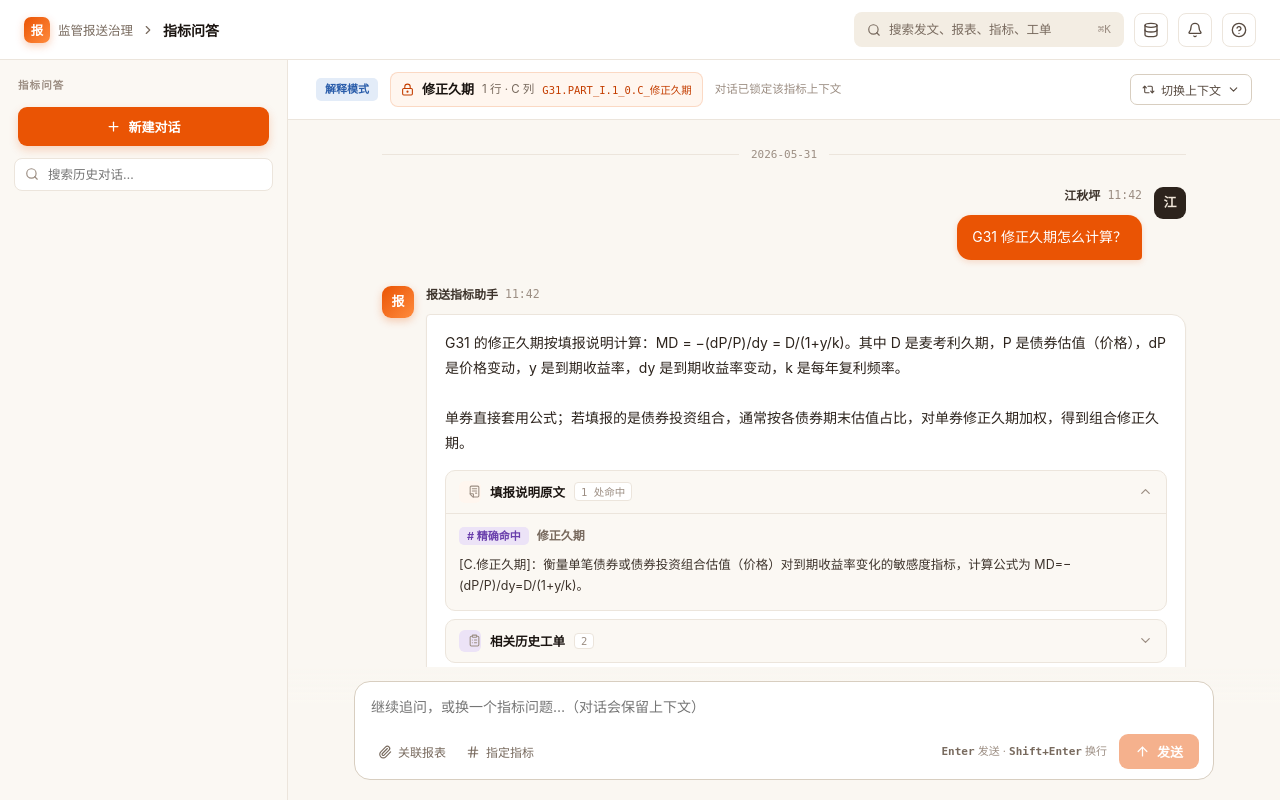
Scenario: IndicatorQAView › appends a streamed assistant response after sending a follow-up
Click the button with test id "qa-new-chat". click: (144, 126)
box: [18, 107, 269, 146]
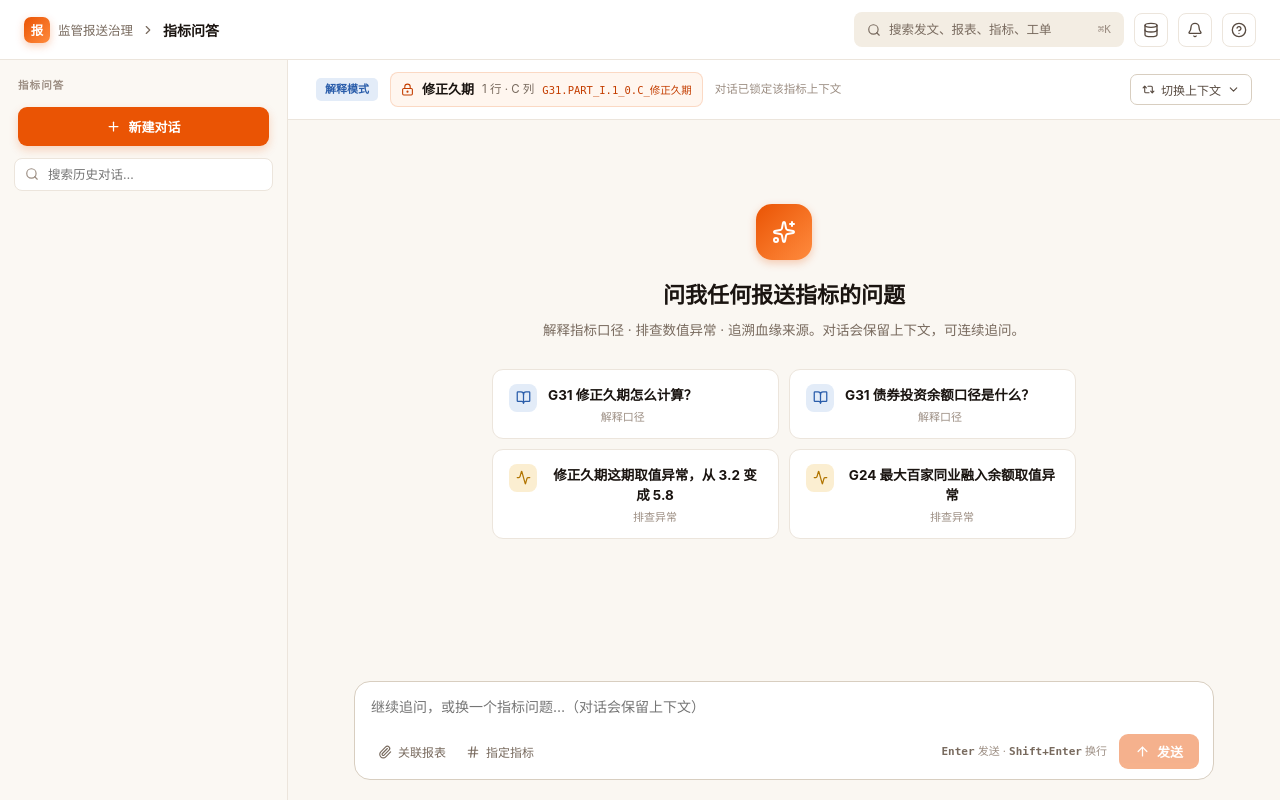
Type "解释一下修正久期" into the text box with test id "qa-composer-input". click: (784, 707)
box: [369, 694, 1199, 720]
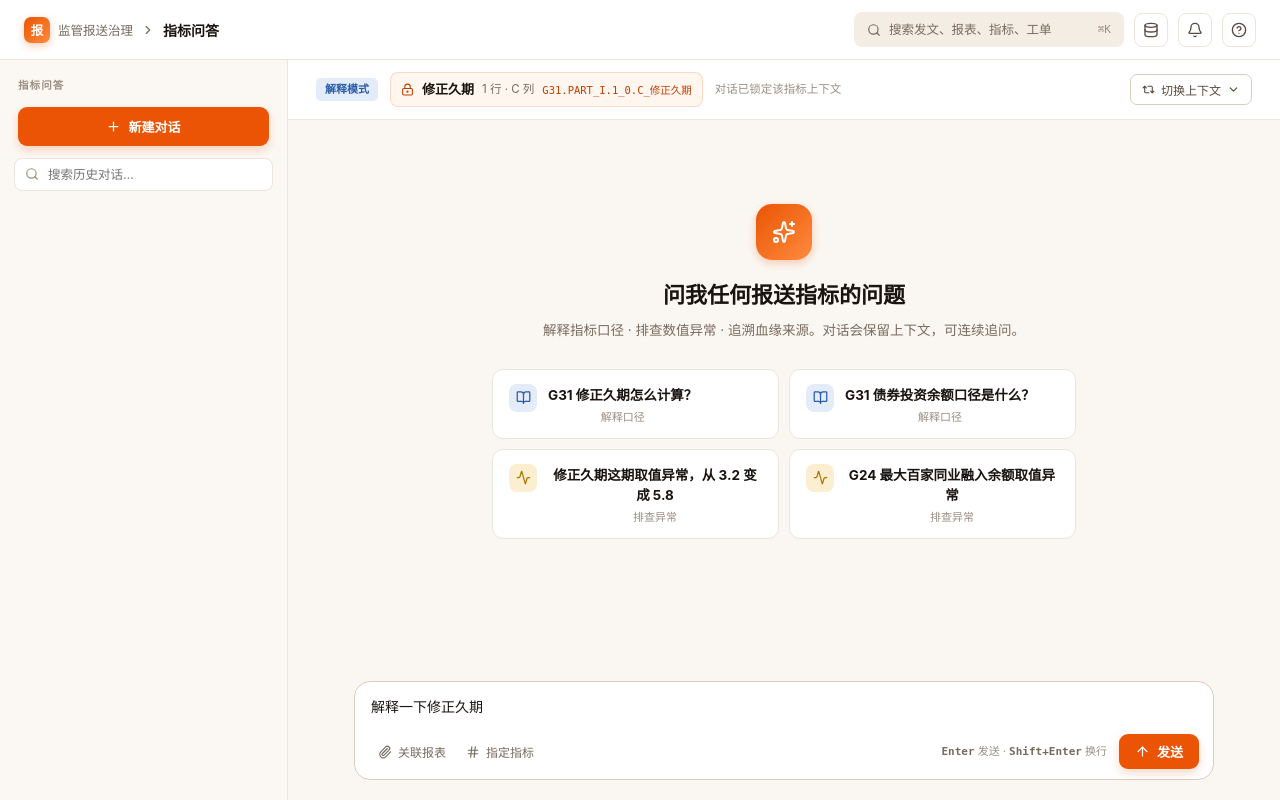
Click the button with test id "qa-send". click: (1159, 752)
box: [1119, 734, 1199, 769]
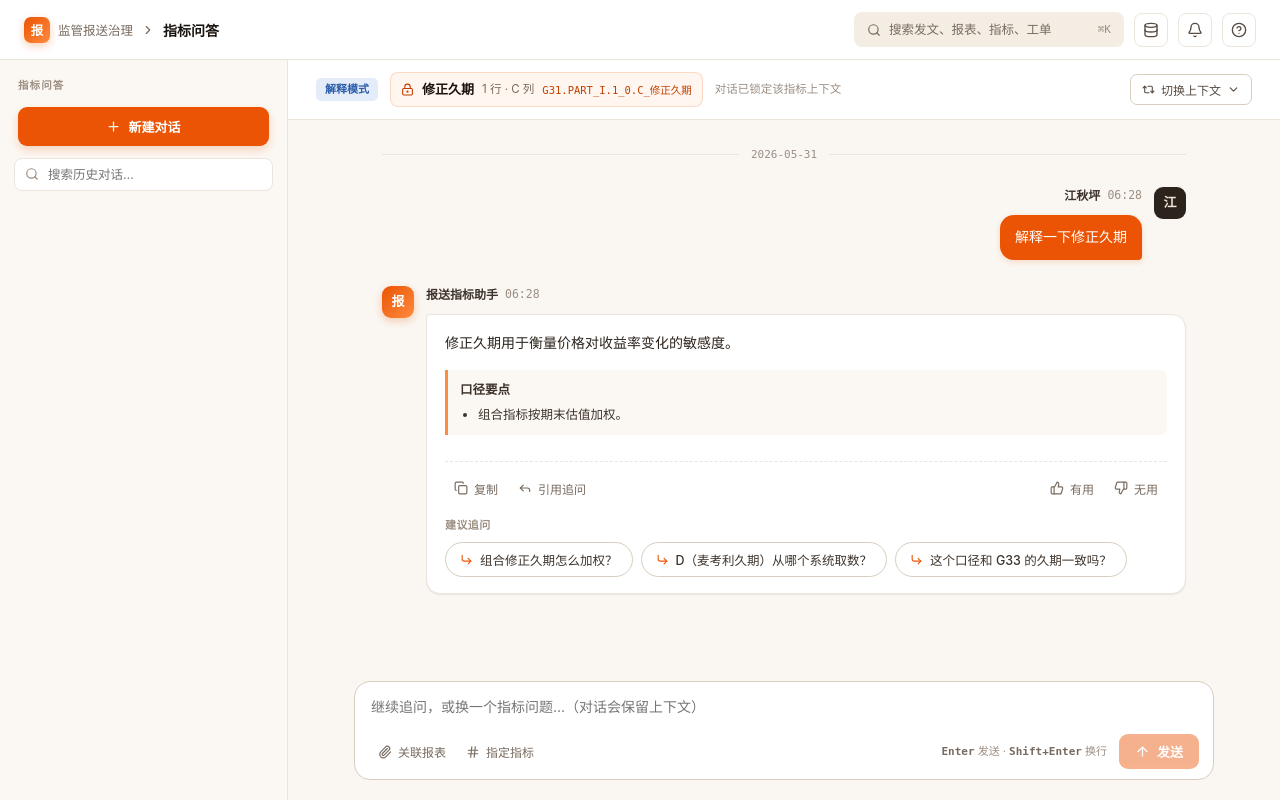
Expected: the element with test id "qa-conversation" shows "解释一下修正久期", [1015, 228, 1127, 245]
Expected: the element with test id "qa-conversation" shows "修正久期用于衡量价格对收益率变化的敏感度。", [445, 334, 739, 351]
Expected: the element with test id "qa-conversation" shows "组合指标按期末估值加权。", [478, 407, 628, 422]
